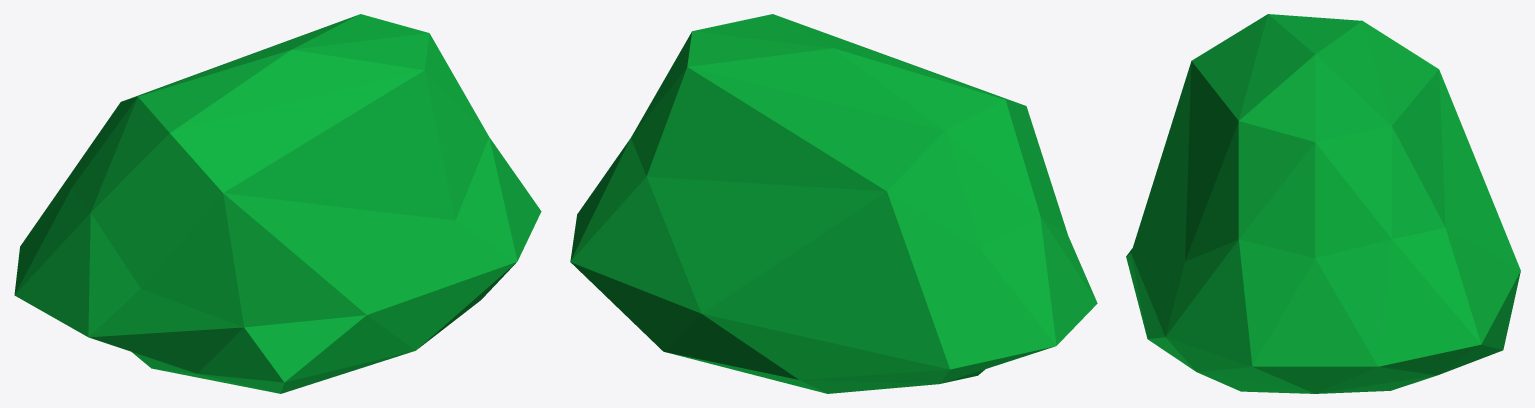
File: bush_01.glb
The picture shows the model from 3 angles, left to right: view 1: azimuth 30°, elevation 25°; view 2: azimuth 150°, elevation 25°; view 3: azimuth 270°, elevation 25°; orthographic projection. The views are drawn at different scales.
Visible parts, largest first — view 1: Shrub_1; view 2: Shrub_1; view 3: Shrub_1.
Boxes of the visible parts, <box> form: Shrub_1: <box>14,14,541,393</box>; Shrub_1: <box>570,14,1097,393</box>; Shrub_1: <box>1126,14,1520,393</box>.
Size of the model in its own units: 4.53 by 2.77 by 3.2.
Materials: 1 (1 with a texture image).
